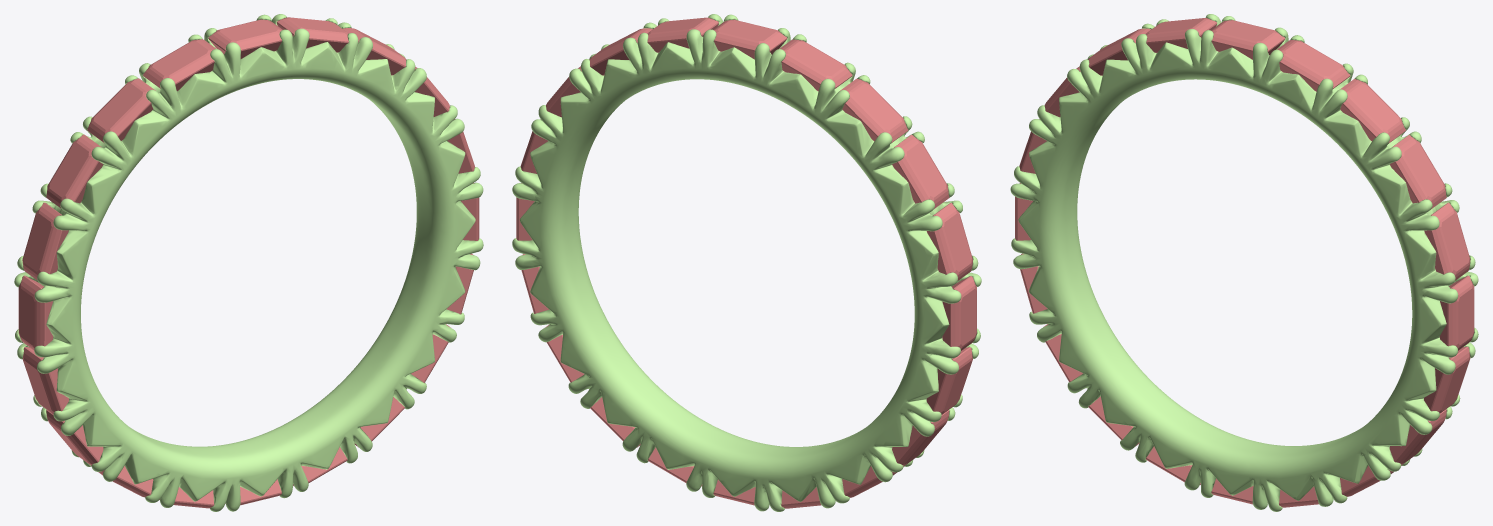
The model's file is BE2D3426LC_RENDER.glb.
The picture shows the model from 3 angles, left to right: view 1: azimuth 30°, elevation 25°; view 2: azimuth 150°, elevation 25°; view 3: azimuth 330°, elevation 25°; orthographic projection.
Visible parts, largest first — view 1: Metal03, Diamond_Emerald_Gem_BD, Diamond_Emerald_Gem_BD.018, Diamond_Emerald_Gem_BD.019, Diamond_Emerald_Gem_BD.020, Diamond_Emerald_Gem_BD.015, Diamond_Emerald_Gem_BD.017, Diamond_Emerald_Gem_BD.016, Diamond_Emerald_Gem_BD.014, Diamond_Emerald_Gem_BD.001, Diamond_Emerald_Gem_BD.013, Diamond_Emerald_Gem_BD.002; view 2: Metal03, Diamond_Emerald_Gem_BD, Diamond_Emerald_Gem_BD.018, Diamond_Emerald_Gem_BD.019, Diamond_Emerald_Gem_BD.020, Diamond_Emerald_Gem_BD.015, Diamond_Emerald_Gem_BD.017, Diamond_Emerald_Gem_BD.016, Diamond_Emerald_Gem_BD.014, Diamond_Emerald_Gem_BD.001; view 3: Metal03, Diamond_Emerald_Gem_BD, Diamond_Emerald_Gem_BD.003, Diamond_Emerald_Gem_BD.004, Diamond_Emerald_Gem_BD.005, Diamond_Emerald_Gem_BD.002, Diamond_Emerald_Gem_BD.020, Diamond_Emerald_Gem_BD.001, Diamond_Emerald_Gem_BD.019, Diamond_Emerald_Gem_BD.006, Diamond_Emerald_Gem_BD.007.
Part boxes in pixels (<box>): Metal03: <box>14,14,483,511</box>; Diamond_Emerald_Gem_BD: <box>18,17,477,508</box>; Diamond_Emerald_Gem_BD.018: <box>87,82,150,143</box>; Diamond_Emerald_Gem_BD.019: <box>143,40,213,88</box>; Diamond_Emerald_Gem_BD.020: <box>208,19,281,58</box>; Diamond_Emerald_Gem_BD.015: <box>18,285,53,350</box>; Diamond_Emerald_Gem_BD.017: <box>46,140,98,208</box>; Diamond_Emerald_Gem_BD.016: <box>22,213,68,280</box>; Diamond_Emerald_Gem_BD.014: <box>23,359,68,414</box>; Diamond_Emerald_Gem_BD.001: <box>276,17,348,42</box>; Diamond_Emerald_Gem_BD.013: <box>48,420,103,465</box>; Diamond_Emerald_Gem_BD.002: <box>342,28,405,66</box>; Metal03: <box>512,14,981,511</box>; Diamond_Emerald_Gem_BD: <box>517,17,976,508</box>; Diamond_Emerald_Gem_BD.018: <box>845,82,908,143</box>; Diamond_Emerald_Gem_BD.019: <box>782,41,852,88</box>; Diamond_Emerald_Gem_BD.020: <box>714,19,787,54</box>; Diamond_Emerald_Gem_BD.015: <box>942,286,976,350</box>; Diamond_Emerald_Gem_BD.017: <box>898,141,949,208</box>; Diamond_Emerald_Gem_BD.016: <box>934,214,972,280</box>; Diamond_Emerald_Gem_BD.014: <box>938,359,972,414</box>; Diamond_Emerald_Gem_BD.001: <box>647,17,718,41</box>; Metal03: <box>1010,14,1478,511</box>; Diamond_Emerald_Gem_BD: <box>1016,18,1473,504</box>; Diamond_Emerald_Gem_BD.003: <box>1389,135,1444,202</box>; Diamond_Emerald_Gem_BD.004: <box>1430,202,1469,273</box>; Diamond_Emerald_Gem_BD.005: <box>1440,275,1474,347</box>; Diamond_Emerald_Gem_BD.002: <box>1340,79,1401,136</box>; Diamond_Emerald_Gem_BD.020: <box>1211,20,1276,51</box>; Diamond_Emerald_Gem_BD.001: <box>1277,40,1341,84</box>; Diamond_Emerald_Gem_BD.019: <box>1145,18,1206,52</box>; Diamond_Emerald_Gem_BD.006: <box>1431,346,1470,411</box>; Diamond_Emerald_Gem_BD.007: <box>1394,409,1446,464</box>.
Size of the model in its own units: 20.99 by 21 by 2.42.
